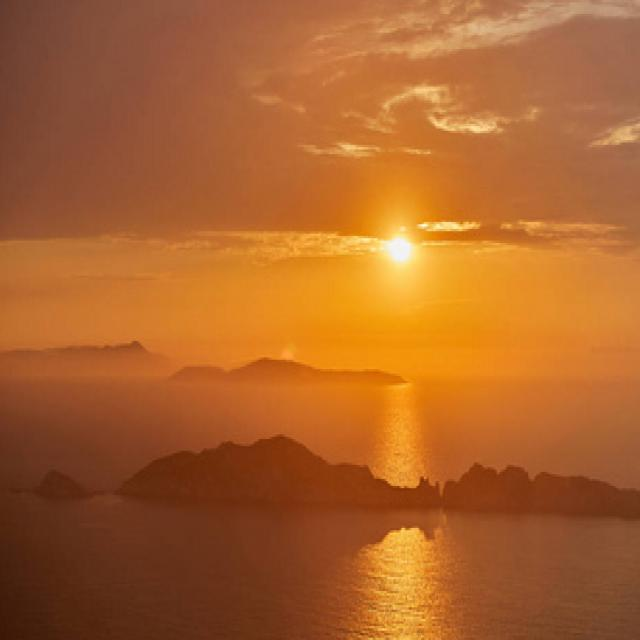island: (40, 420, 640, 532)
